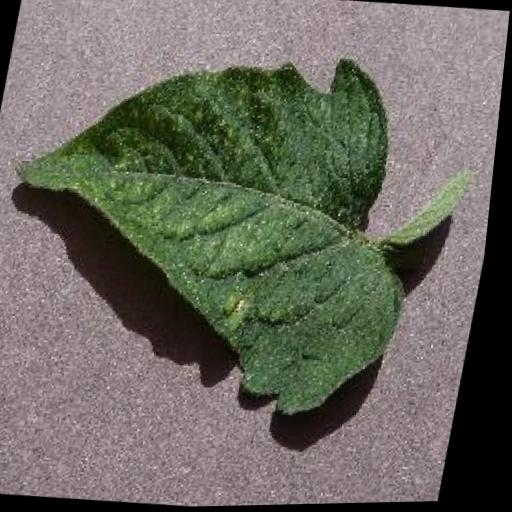Spider Mites: (0, 34, 456, 427)
